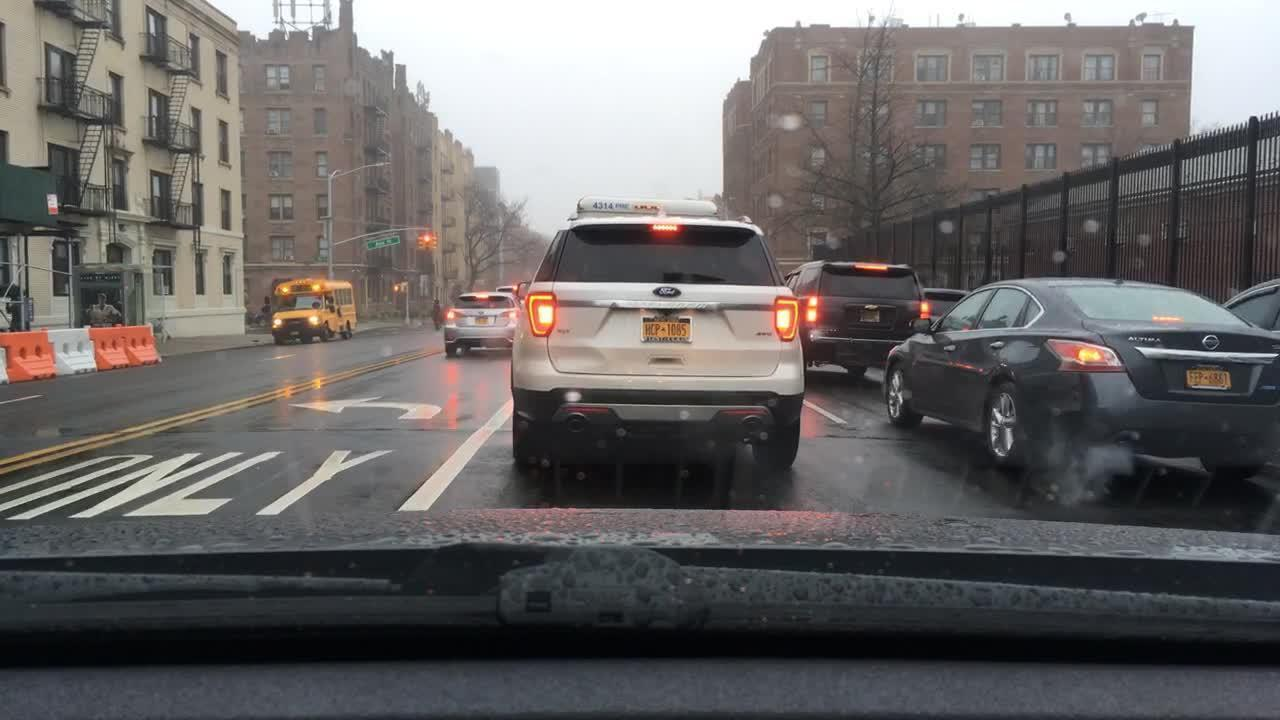Nissan: (1200, 332, 1224, 352)
chevrolet: (864, 302, 881, 313)
ford: (647, 280, 692, 300)
